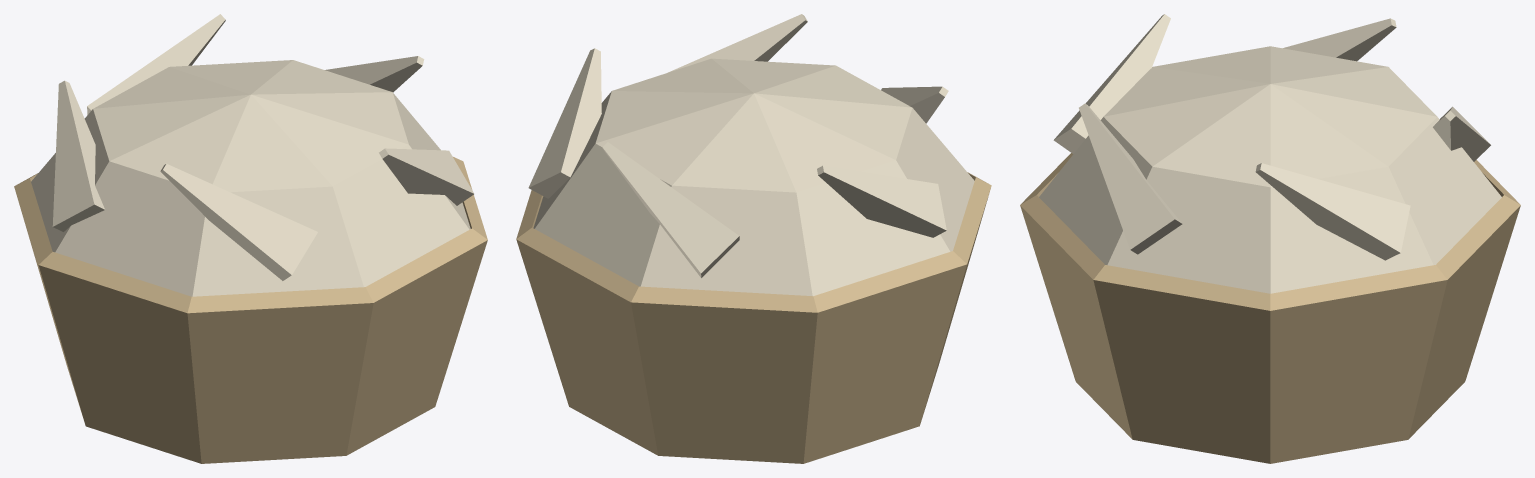
The model's file is prop-wool-lock-basket.fbx.
The picture shows the model from 3 angles, left to right: view 1: azimuth 30°, elevation 25°; view 2: azimuth 150°, elevation 25°; view 3: azimuth 270°, elevation 25°; orthographic projection. The views are drawn at different scales.
Parts seen in each view (by area): view 1: prop-wool-lock-basket; view 2: prop-wool-lock-basket; view 3: prop-wool-lock-basket.
Part boxes in pixels (x1,y1,x2,y2): prop-wool-lock-basket: (14, 14, 487, 463); prop-wool-lock-basket: (516, 14, 991, 463); prop-wool-lock-basket: (1020, 14, 1520, 463).
Size of the model in its own units: 18 by 11.88 by 18.
